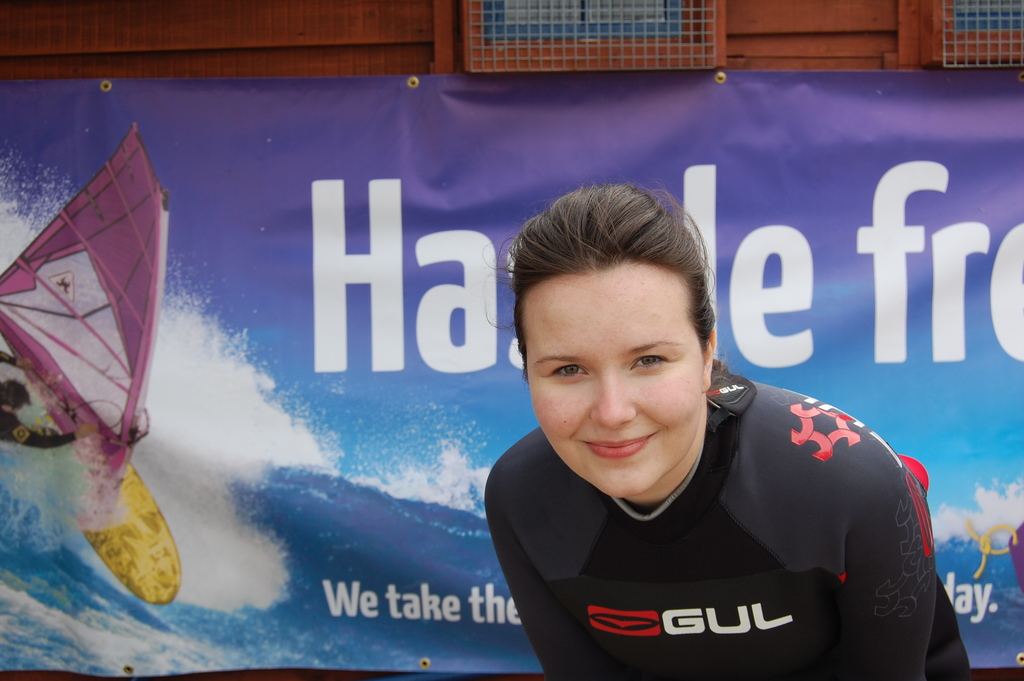Person: (483, 180, 971, 680)
